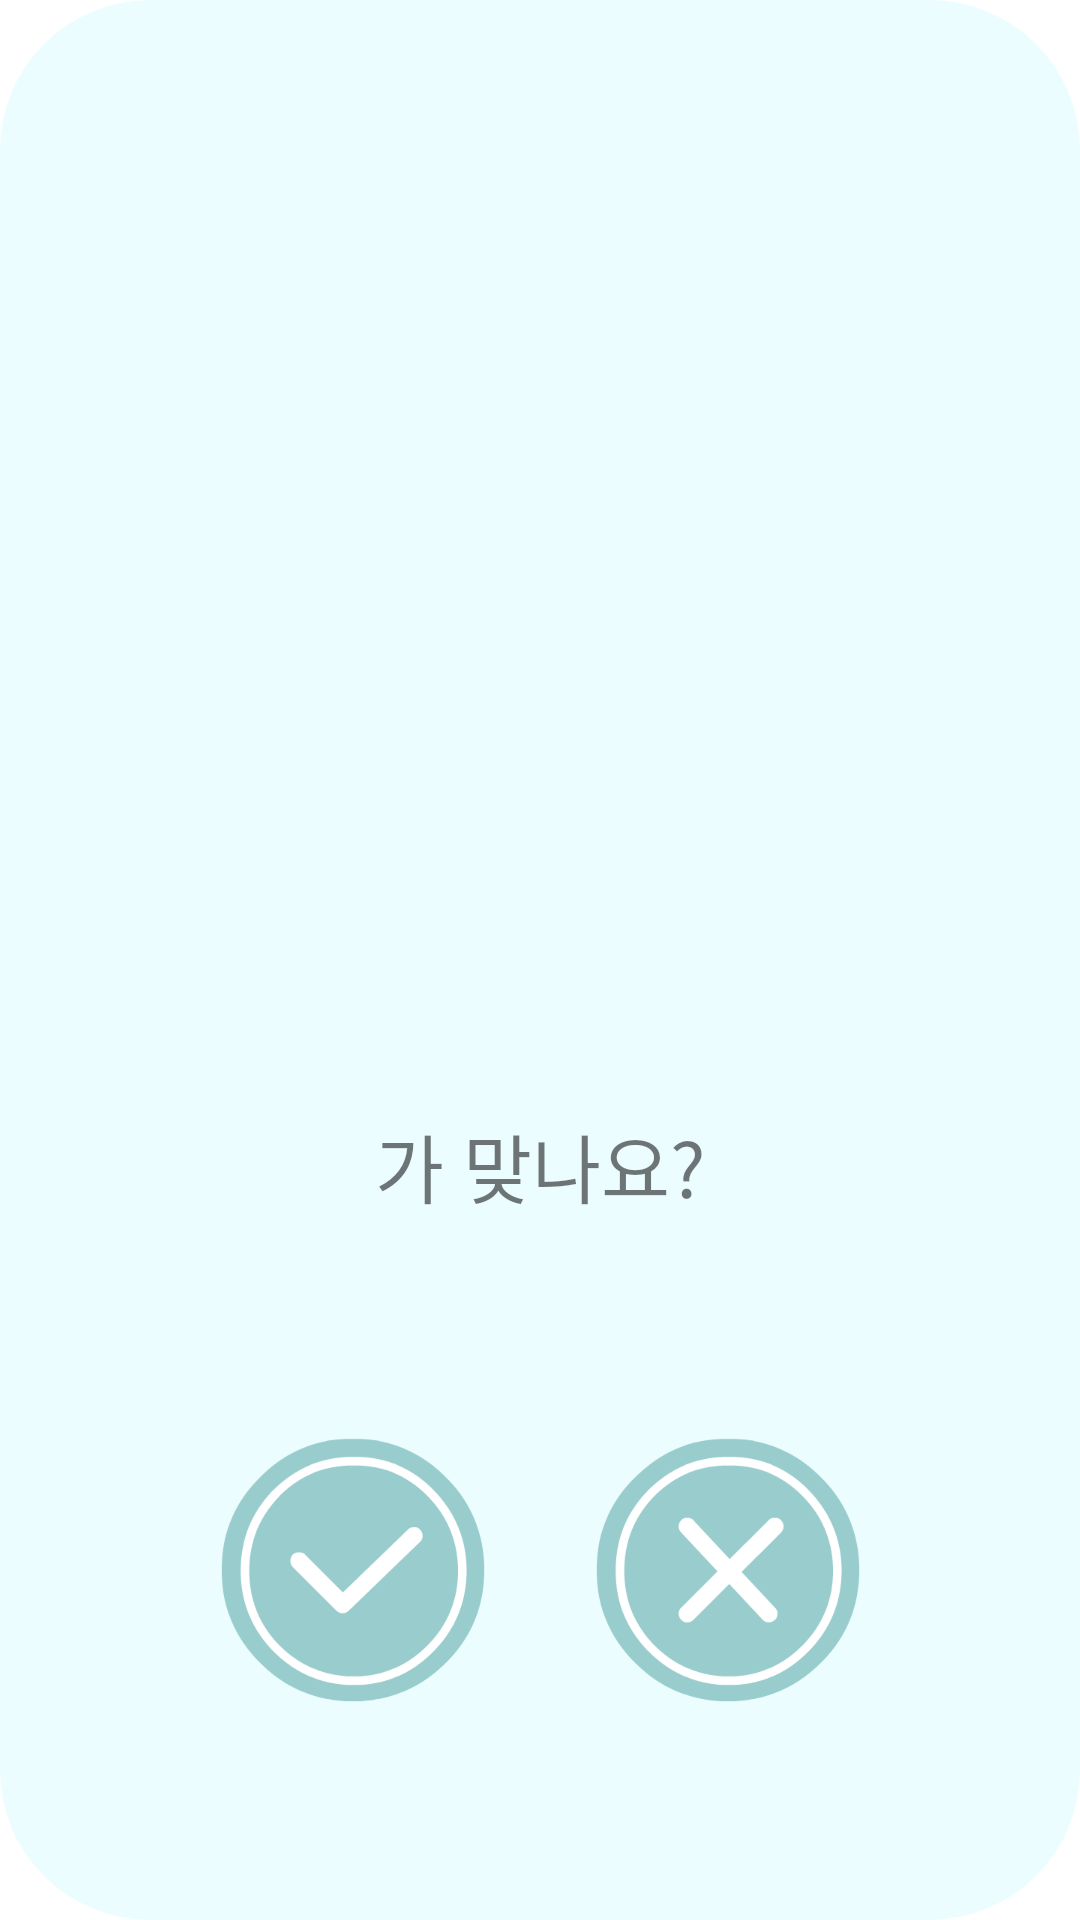

Named icons in this screenshot (1080px×1920px) and their bounding boxes, (x1, y1, x2, y2):
btncancel: (597, 1439, 859, 1701)
btnok: (222, 1439, 484, 1701)
